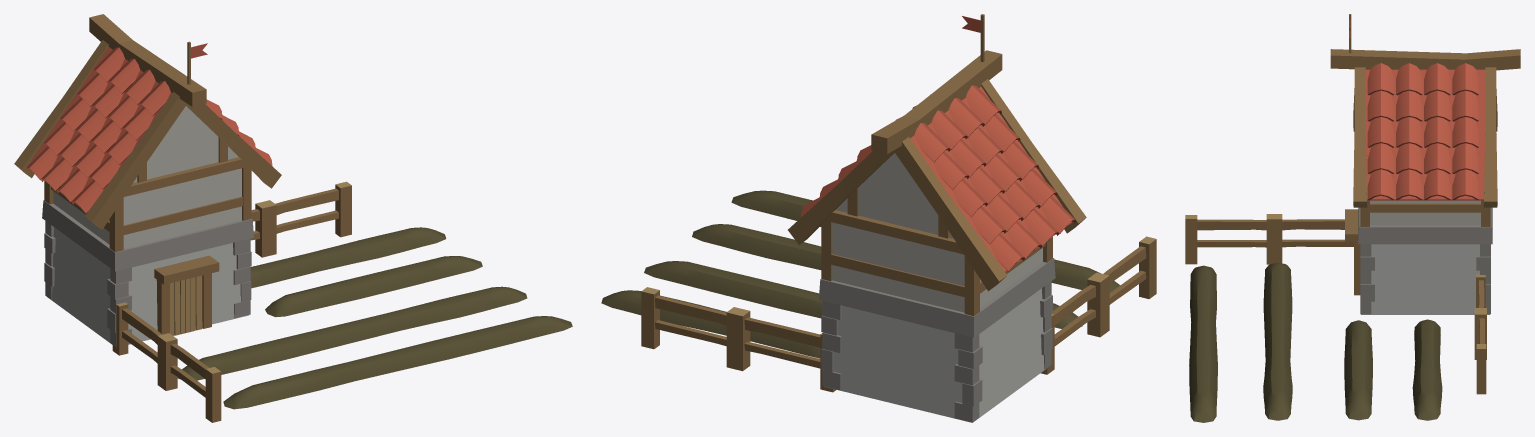
The model's file is quaternius-real-time-strategy-farm-second-age-level-2.glb.
3 views of the same model, side by side, from view 1: azimuth 30°, elevation 25°; view 2: azimuth 150°, elevation 25°; view 3: azimuth 270°, elevation 25° (orthographic). The views are drawn at different scales.
Visible parts, largest first — view 1: Farm_SecondAge_Level2; view 2: Farm_SecondAge_Level2; view 3: Farm_SecondAge_Level2.
Part boxes in pixels (box(x1,y1,x2,y2)): Farm_SecondAge_Level2: box(14, 14, 572, 422); Farm_SecondAge_Level2: box(601, 14, 1156, 422); Farm_SecondAge_Level2: box(1185, 14, 1520, 422).
Size of the model in its own units: 1.83 by 1.31 by 1.45.
Materials: 1 (1 with a texture image).
